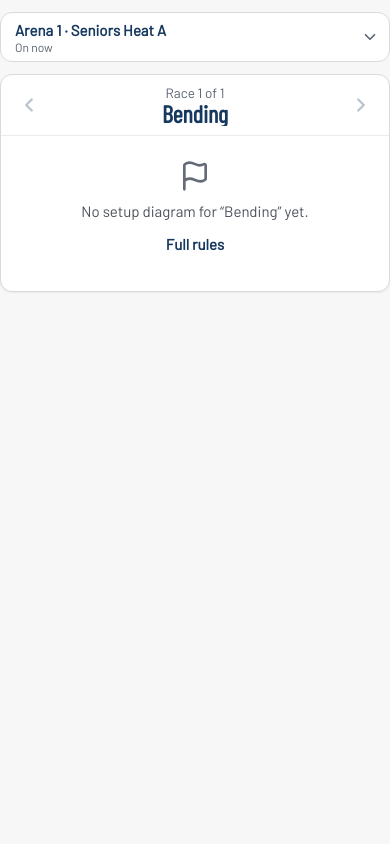
shows the last finished heat when an arena has nothing left to run, and keeps the arena choice
Expected: the heading "Bending" is shown, [162,101,228,126]
Click the button "Arena 1 · Seniors Heat A On now".
click(91, 30)  # box [0,12,389,62]
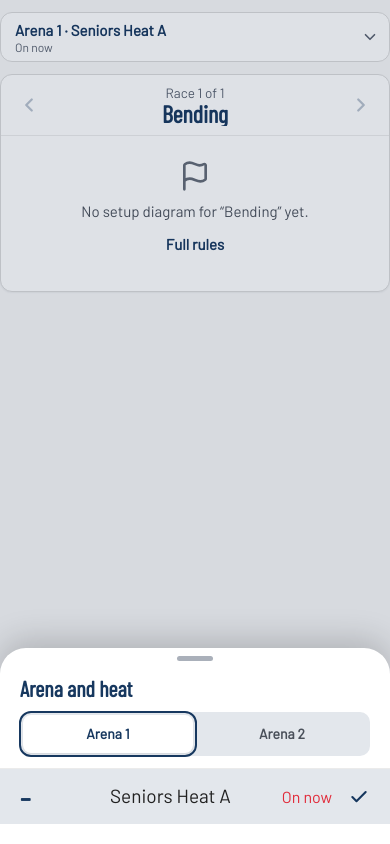
Click the tab "Arena 2".
click(282, 734)  # box [197,715,367,753]
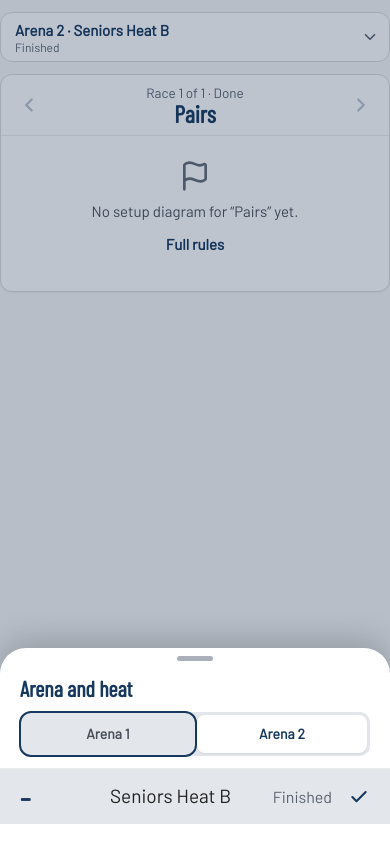
Expected: the heading "Pairs" is shown, [174,101,216,126]
Expected: the text "Race 1 of 1 · Done" is shown, [146,84,244,101]
Expected: the button "Arena 2 · Seniors Heat B Finished" is shown, [0,12,389,62]
